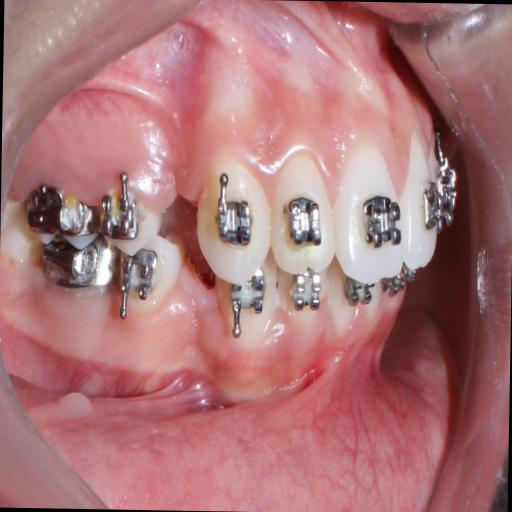correct_brace: (360, 186, 406, 258), (214, 192, 256, 252), (282, 195, 324, 251)
incorrect_brace: (270, 156, 336, 276)
